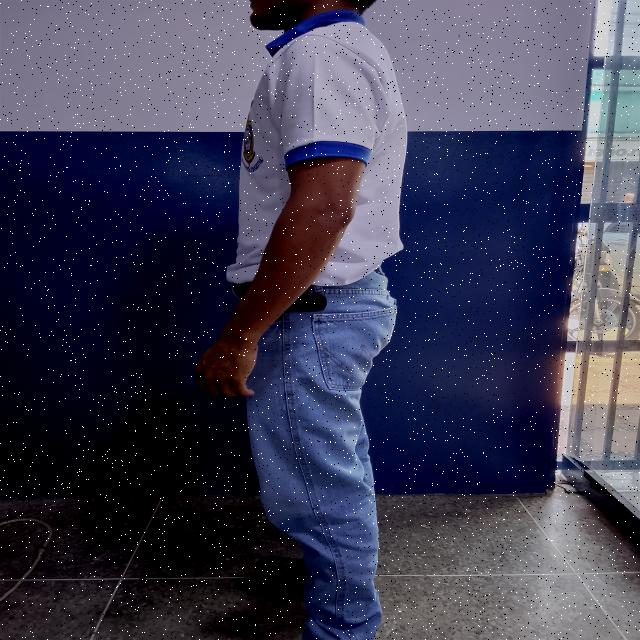uniforme_superior: (226, 10, 408, 286)
